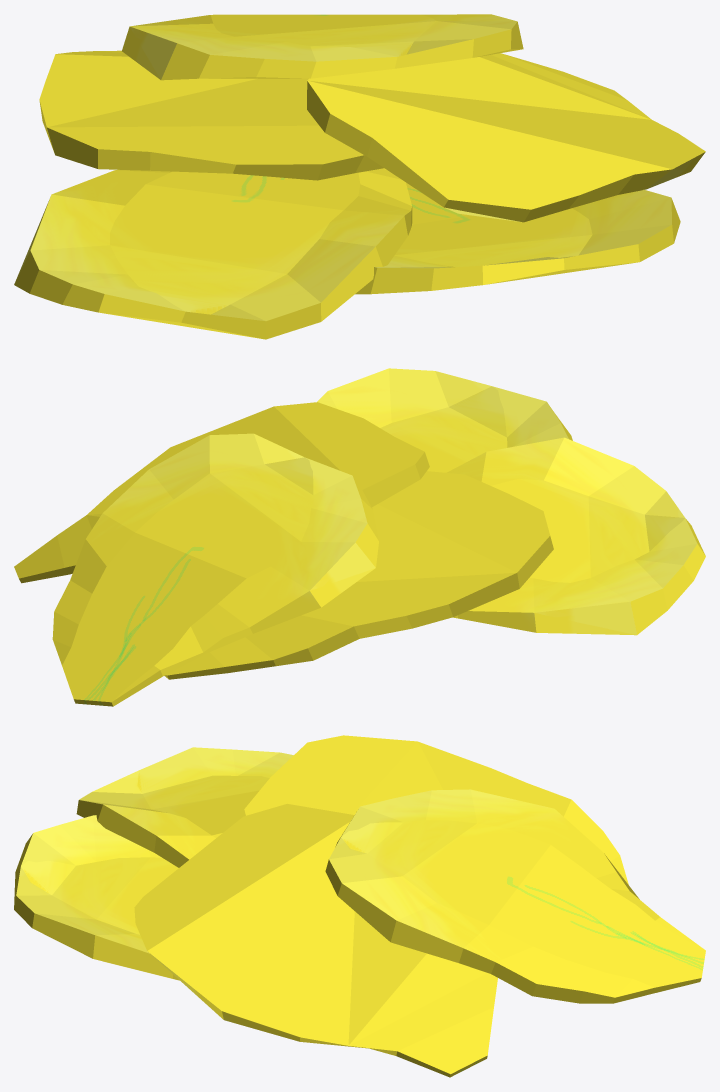
Rendered from flower_cut.gltf.
The picture shows the model from 3 angles, top to bottom: view 1: azimuth 30°, elevation 25°; view 2: azimuth 150°, elevation 25°; view 3: azimuth 270°, elevation 25°; orthographic projection. The views are drawn at different scales.
Visible parts, largest first — view 1: petals; view 2: petals; view 3: petals.
Boxes of the visible parts, x1=… form: petals: x1=14, y1=14, x2=705, y2=339; petals: x1=14, y1=368, x2=705, y2=706; petals: x1=14, y1=735, x2=705, y2=1077.
Size of the model in its own units: 1.93 by 0.44 by 2.06.
1 material, 1 textured.
